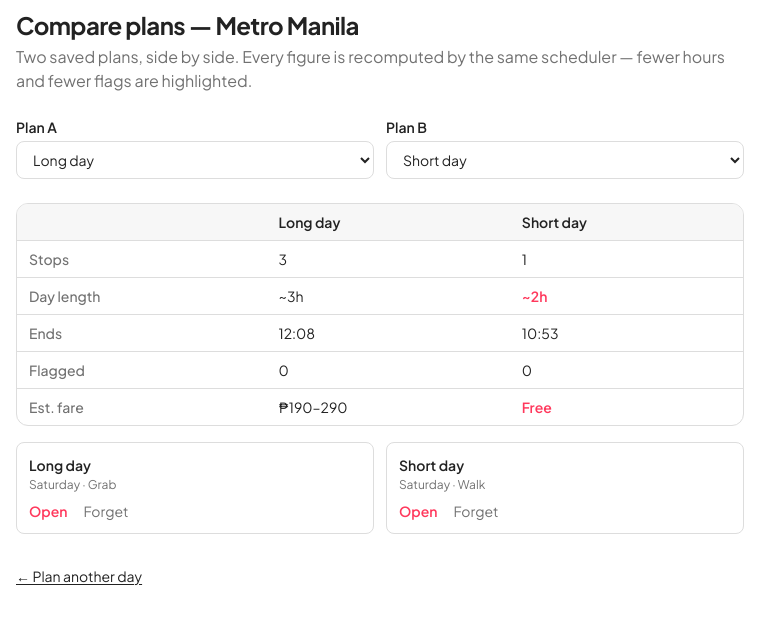
CompareView › removes a plan and updates the list when "Forget" is clicked
Click the button "Forget" below "Grab" at (106, 511), box [84, 501, 129, 521]
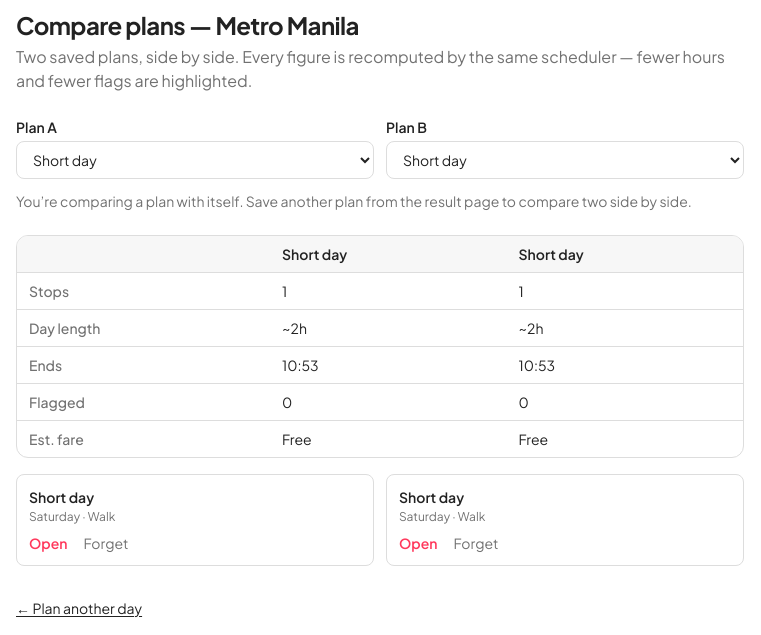
Expected: the text "comparing a plan with itself" is shown, [16, 192, 244, 210]
